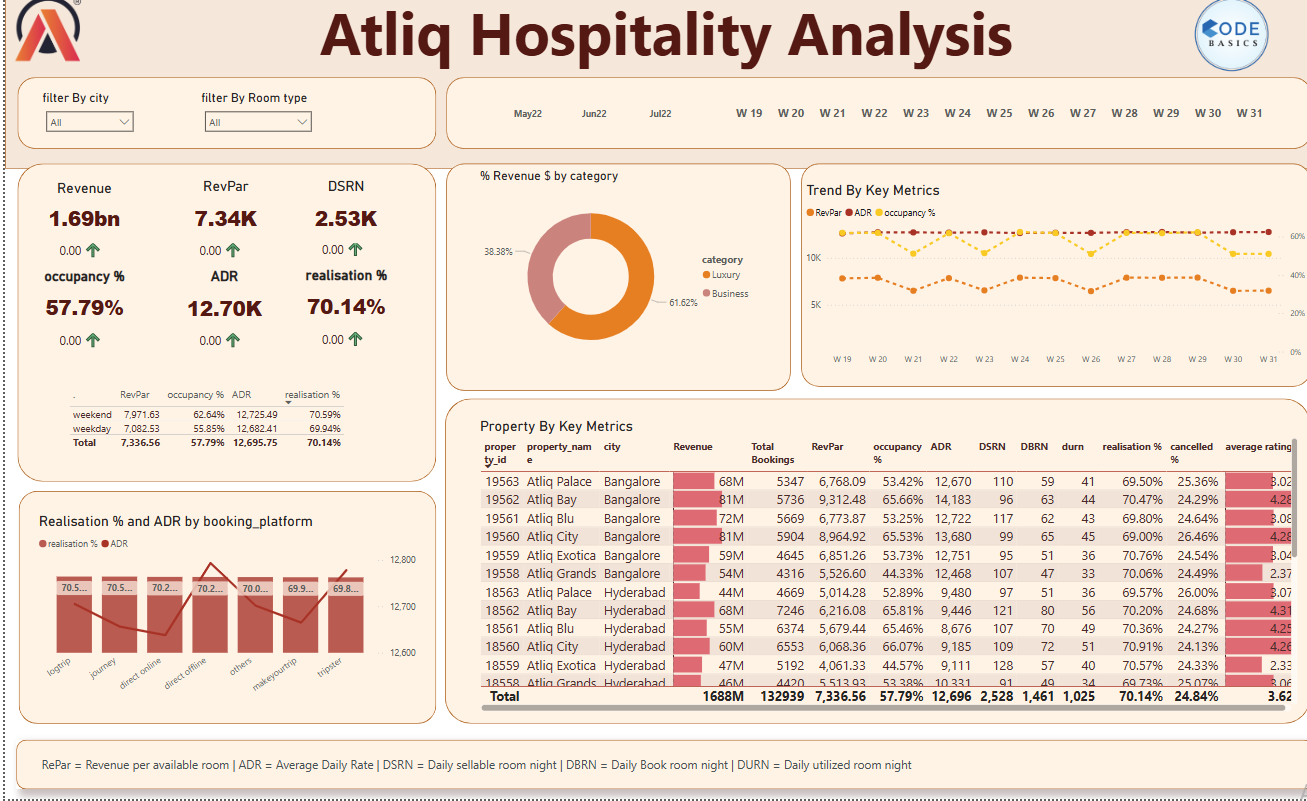

Layout of this report page (visuals, bound fields, positions):
{"tool":"powerbi","page":{"name":"Page 2","canvas":[1800,1100],"ordinal":1},"visuals":[{"type":"shape","box":[0,0,1799.6,241.8],"z":0},{"type":"shape","box":[599.3,554.3,1177.2,442.4],"z":1000},{"type":"shape","box":[18.7,680.5,568,316.8],"z":2000},{"type":"shape","box":[1083.5,234.3,693.6,303.7],"z":3000},{"type":"shape","box":[599.9,234.3,468.6,309.3],"z":4000},{"type":"shape","box":[17.2,234.6,569.9,433],"z":5000},{"type":"shape","box":[599.9,118.1,1177.2,97.5],"z":6000},{"type":"shape","box":[16.9,118.1,569.9,97.5],"z":7000},{"type":"tableEx","title":"Property By Key Metrics","fields":{"Values":["dim_hotels.property_id","dim_hotels.property_name","dim_hotels.city","measure.Revenue $","measure.total_booking","measure.Revenue per available room","measure.occupancy %","measure.Average daily rate","measure.DSRN(daily sellable room )","measure.DBRN(Daily Booked Room Nights)","measure.durn(daily utilised room night)","measure.realisation"]},"box":[641.1,581.1,1122.9,403],"z":8000},{"type":"slicer","title":"filter By city","fields":{"Values":["dim_hotels.city"]},"box":[45.1,134.4,138.7,63.7],"z":9000},{"type":"slicer","title":"filter By Room type","fields":{"Values":["dim_rooms.room_class"]},"box":[262.4,135,165,63.7],"z":10000},{"type":"slicer","title":"filter By Room type","fields":{"Values":["dim_date.mmm yy"]},"box":[641.1,135,318.7,63.7],"z":11000},{"type":"slicer","title":"filter By Room type","fields":{"Values":["dim_date.week no"]},"box":[959.8,135,785.5,63.7],"z":12000},{"type":"tableEx","title":"Revenue","fields":{"Values":["measure.revenue wow %"]},"box":[63.6,309.9,90,67.5],"z":13000},{"type":"donutChart","title":"% Revenue $ by category","fields":{"Category":["dim_hotels.category"],"Y":["measure.Revenue $"]},"box":[640.4,241.1,386.2,275.6],"z":14000},{"type":"card","title":"Revenue","fields":{"Values":["measure.Revenue $"]},"box":[45,256.8,127.5,86.2],"z":15000},{"type":"lineChart","title":"Trend By Key Metrics","fields":{"Category":["dim_date.mmm yy.Variation.Date Hierarchy.Month","dim_date.week no"],"Y":["measure.Revenue per available room","measure.Average daily rate"],"Y2":["measure.occupancy %"]},"box":[1085.4,260.6,691.7,258.7],"z":16000},{"type":"lineStackedColumnComboChart","title":"Realisation % and ADR by booking_platform","fields":{"Category":["fact_bookings.booking_platform"],"Y":["measure.realisation %"],"Y2":["measure.Average daily rate"]},"box":[41.2,710.5,523,258.7],"z":17000},{"type":"tableEx","fields":{"Values":["dim_date.day_type","measure.Revenue per available room","measure.occupancy %","measure.Average daily rate","measure.realisation %"]},"box":[82.1,533.7,444.3,99.4],"z":18000},{"type":"tableEx","title":"Revenue","fields":{"Values":["measure.revenue wow %"]},"box":[254.1,309.9,90,67.5],"z":19000},{"type":"card","title":"RevPar","fields":{"Values":["measure.Revenue per available room"]},"box":[234.3,254.9,131.2,88.1],"z":20000},{"type":"tableEx","title":"Revenue","fields":{"Values":["measure.revenue wow %"]},"box":[419.8,308.4,90,67.5],"z":21000},{"type":"card","title":"DSRN","fields":{"Values":["measure.DSRN(daily sellable room )"]},"box":[386.2,254.9,155.6,88.1],"z":22000},{"type":"tableEx","title":"Revenue","fields":{"Values":["measure.revenue wow %"]},"box":[419.8,430.3,90,67.5],"z":23000},{"type":"card","title":"realisation %","fields":{"Values":["measure.realisation %"]},"box":[389.8,375.2,150,88.1],"z":24000},{"type":"tableEx","title":"Revenue","fields":{"Values":["measure.revenue wow %"]},"box":[254.1,431.8,90,67.5],"z":25000},{"type":"card","title":"ADR","fields":{"Values":["measure.Average daily rate"]},"box":[233.5,377.4,131.2,88.1],"z":26000},{"type":"tableEx","title":"Revenue","fields":{"Values":["measure.revenue wow %"]},"box":[63.6,431.8,90,67.5],"z":27000},{"type":"card","title":"occupancy %","fields":{"Values":["measure.occupancy %"]},"box":[44.5,378.2,128.2,87.9],"z":28000},{"type":"shape","box":[15,1017.9,1765.9,67.5],"z":29000},{"type":"image","box":[5.6,0,108.7,101.2],"z":30000},{"type":"image","box":[1591.5,0,153.7,118.1],"z":31000},{"type":"shape","box":[41.2,1029.1,1201.6,45],"z":32000}]}

Visuals, with their boxes in screenshot pixels (x1, y1, x2, y2), scaled from the page's 1800x1100 canvas onto the 1307x801 screenshot:
shape: rect(0, 0, 1306, 176)
shape: rect(435, 404, 1290, 726)
shape: rect(14, 496, 426, 726)
shape: rect(787, 171, 1290, 392)
shape: rect(436, 171, 776, 396)
shape: rect(12, 171, 426, 486)
shape: rect(436, 86, 1290, 157)
shape: rect(12, 86, 426, 157)
"Property By Key Metrics" tableEx: rect(466, 423, 1281, 717)
"filter By city" slicer: rect(33, 98, 133, 144)
"filter By Room type" slicer: rect(191, 98, 310, 145)
"filter By Room type" slicer: rect(466, 98, 697, 145)
"filter By Room type" slicer: rect(697, 98, 1267, 145)
"Revenue" tableEx: rect(46, 226, 112, 275)
"% Revenue $ by category" donutChart: rect(465, 176, 745, 376)
"Revenue" card: rect(33, 187, 125, 250)
"Trend By Key Metrics" lineChart: rect(788, 190, 1290, 378)
"Realisation % and ADR by booking_platform" lineStackedColumnComboChart: rect(30, 517, 410, 706)
tableEx - dim_date.day_type x measure.Revenue per available room: rect(60, 389, 382, 461)
"Revenue" tableEx: rect(185, 226, 250, 275)
"RevPar" card: rect(170, 186, 265, 250)
"Revenue" tableEx: rect(305, 225, 370, 274)
"DSRN" card: rect(280, 186, 393, 250)
"Revenue" tableEx: rect(305, 313, 370, 362)
"realisation %" card: rect(283, 273, 392, 337)
"Revenue" tableEx: rect(185, 314, 250, 364)
"ADR" card: rect(170, 275, 265, 339)
"Revenue" tableEx: rect(46, 314, 112, 364)
"occupancy %" card: rect(32, 275, 125, 339)
shape: rect(11, 741, 1293, 790)
image: rect(4, 0, 83, 74)
image: rect(1156, 0, 1267, 86)
shape: rect(30, 749, 902, 782)
